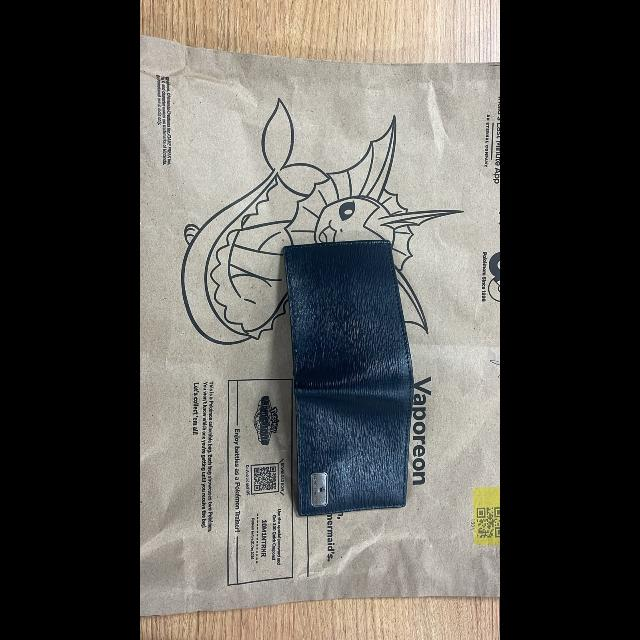wallet: (267, 222, 468, 536)
